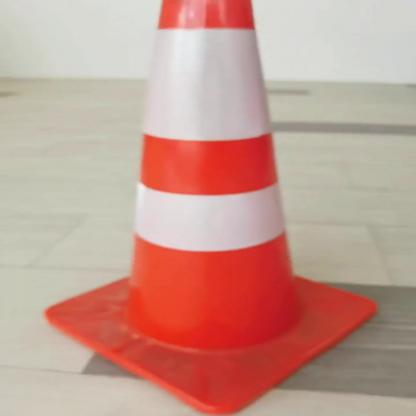cone: (34, 0, 394, 416)
